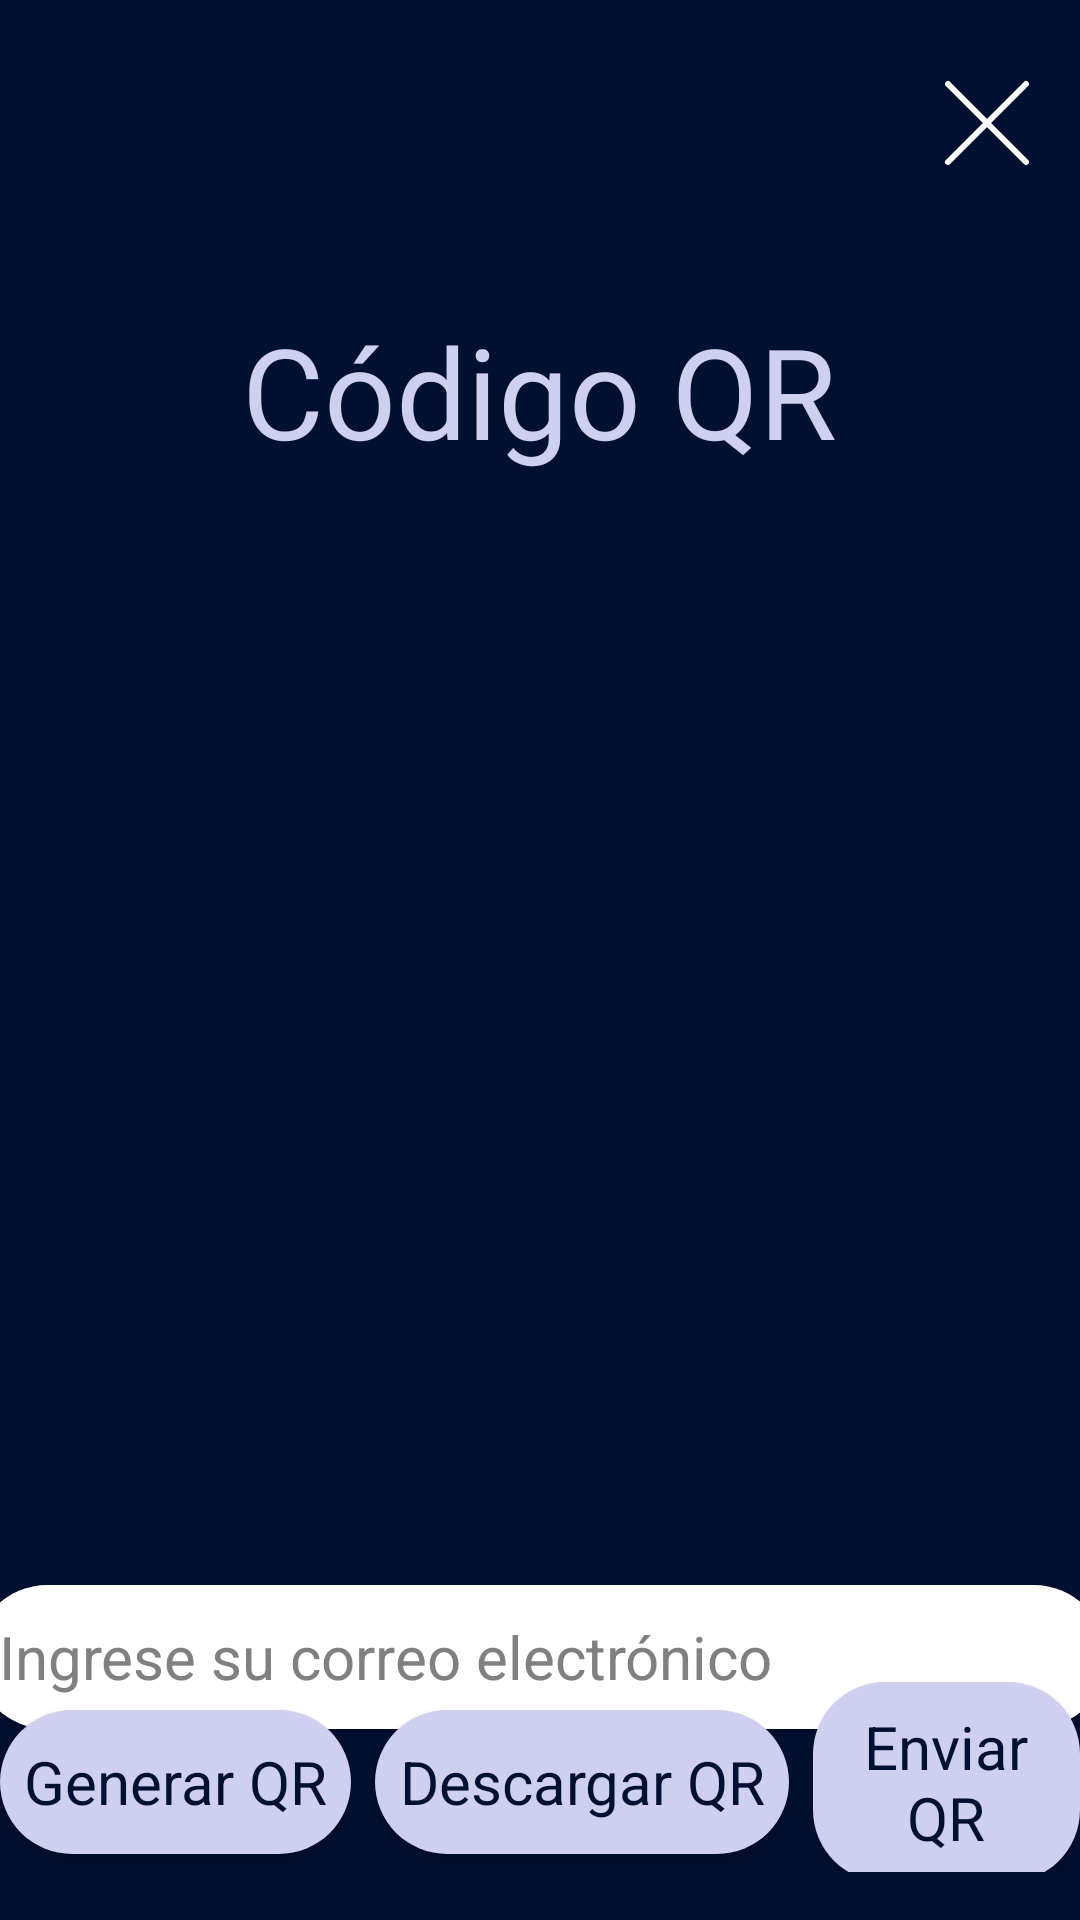

Locate icon controls on the screen. Image size 1080 × 1920, boxes as (x1, y1, x2, y2).
Close: (945, 80, 1029, 165)
